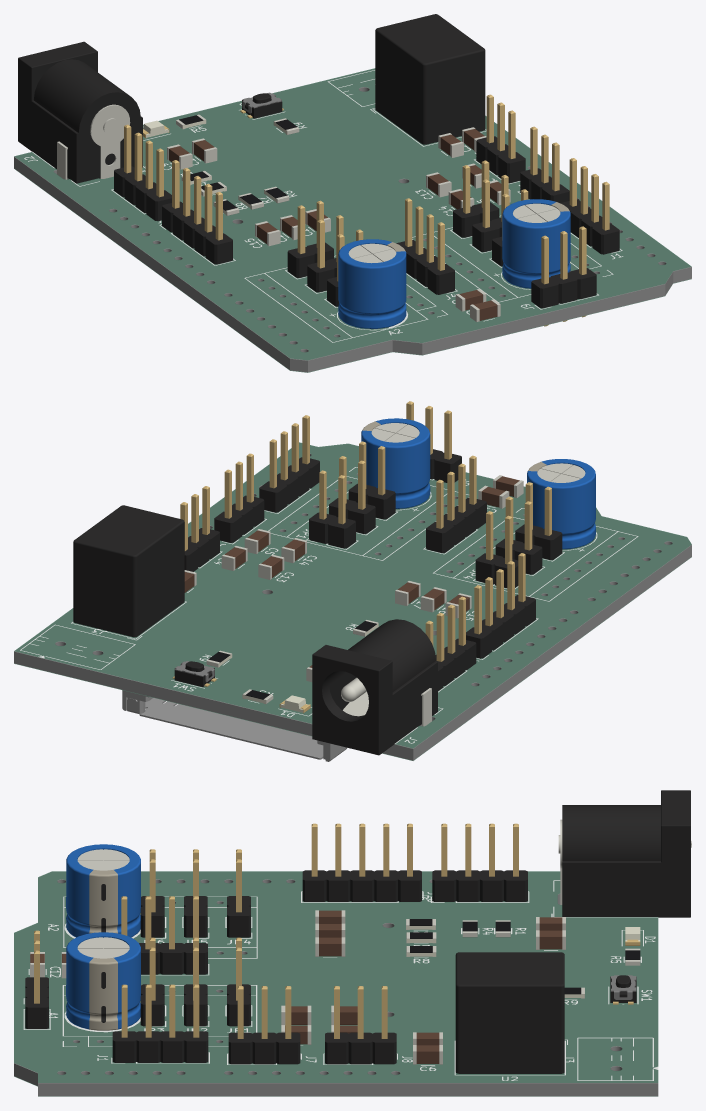
Rendered from pcb.glb.
The picture shows the model from 3 angles, top to bottom: view 1: azimuth 30°, elevation 25°; view 2: azimuth 150°, elevation 25°; view 3: azimuth 270°, elevation 25°; orthographic projection. The views are drawn at different scales.
Parts seen in each view (by area): view 1: =>[0:1:1:18], =>[0:1:1:16], J2, U2, C1, C19, J10, J6, J4, =>[0:1:1:14], J9, J1 (+9 smaller); view 2: =>[0:1:1:18], =>[0:1:1:16], J2, U2, C19, J5, C1, J10, =>[0:1:1:14], J4, J1, J6 (+11 smaller); view 3: =>[0:1:1:18], =>[0:1:1:16], J2, U2, C19, C1, J10, =>[0:1:1:14], J1, J6, J7, J8 (+14 smaller).
Boxes of the visible parts, x1,y1,x2,y2 form: =>[0:1:1:18]: (14, 69, 691, 372); =>[0:1:1:16]: (14, 68, 691, 360); J2: (18, 41, 142, 183); U2: (375, 14, 485, 144); C1: (338, 239, 406, 328); C19: (502, 199, 570, 288); J10: (162, 160, 232, 264); J6: (114, 124, 171, 221); J4: (396, 198, 454, 294); =>[0:1:1:14]: (24, 70, 623, 342); J9: (531, 226, 596, 326); J1: (560, 158, 619, 254); =>[0:1:1:18]: (14, 443, 691, 760); =>[0:1:1:16]: (14, 442, 691, 748); J2: (312, 619, 437, 755); U2: (73, 505, 184, 637); C19: (361, 418, 430, 508); J5: (122, 690, 346, 761); C1: (527, 459, 595, 549); J10: (466, 553, 535, 658); =>[0:1:1:14]: (20, 467, 638, 743); J4: (426, 455, 486, 552); J1: (259, 415, 319, 512); J6: (425, 596, 476, 690); =>[0:1:1:18]: (14, 872, 658, 1096); =>[0:1:1:16]: (14, 871, 658, 1082); J2: (558, 790, 691, 917); U2: (455, 952, 564, 1073); C19: (66, 932, 140, 1030); C1: (66, 844, 140, 937); J10: (302, 823, 421, 901); =>[0:1:1:14]: (23, 880, 658, 1080); J1: (112, 984, 208, 1062); J6: (432, 823, 527, 901); J7: (228, 986, 300, 1064); J8: (325, 986, 396, 1064).
Size of the model in its own units: 0.0533 by 0.0155 by 0.0722.
